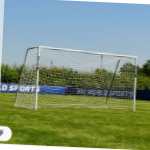goals: (14, 42, 139, 116)
